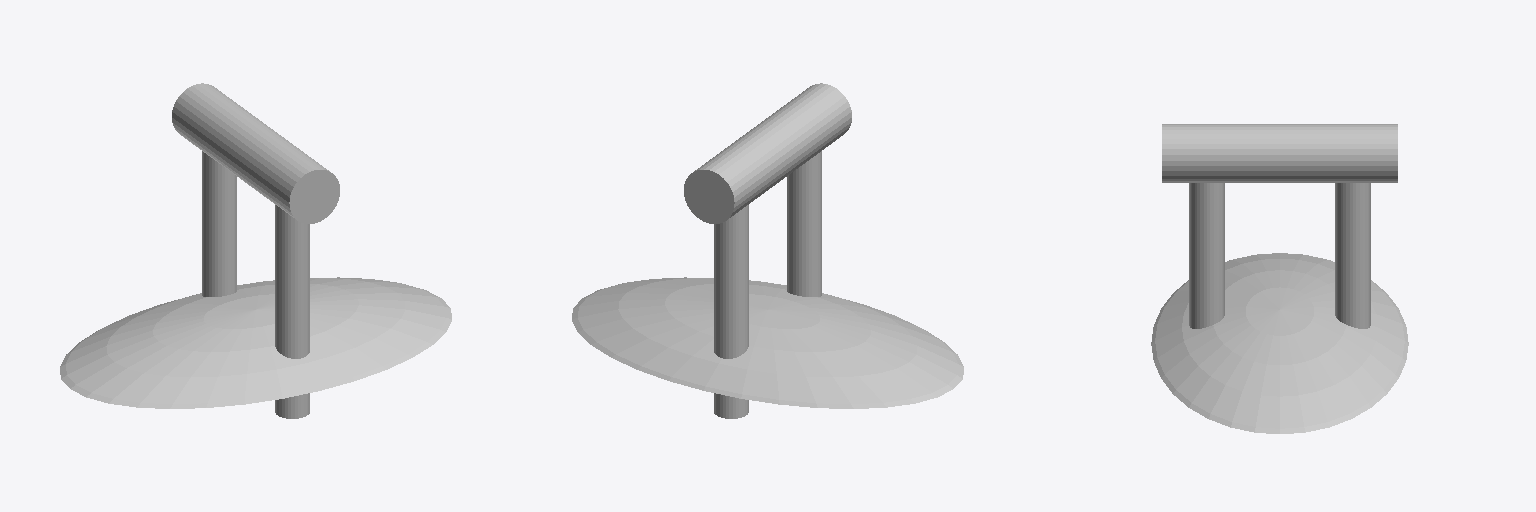
The model's file is gear.obj.
The picture shows the model from 3 angles: view 1: azimuth 30°, elevation 25°; view 2: azimuth 150°, elevation 25°; view 3: azimuth 270°, elevation 25°; orthographic projection.
Visible parts, largest first — view 1: Sphere, Cylinder, Cylinder.001, Cylinder.002; view 2: Sphere, Cylinder, Cylinder.002, Cylinder.001; view 3: Sphere, Cylinder, Cylinder.001, Cylinder.002.
Boxes of the visible parts, x1,y1,x2,y2 form: Sphere: [60, 277, 451, 408]; Cylinder: [172, 83, 339, 223]; Cylinder.001: [275, 205, 309, 418]; Cylinder.002: [202, 151, 236, 296]; Sphere: [572, 277, 963, 408]; Cylinder: [684, 83, 851, 223]; Cylinder.002: [714, 205, 748, 418]; Cylinder.001: [787, 151, 821, 296]; Sphere: [1151, 253, 1408, 433]; Cylinder: [1162, 124, 1397, 182]; Cylinder.001: [1189, 183, 1224, 328]; Cylinder.002: [1335, 183, 1370, 328].
Size of the model in its own units: 7.29 by 4.83 by 4.38.